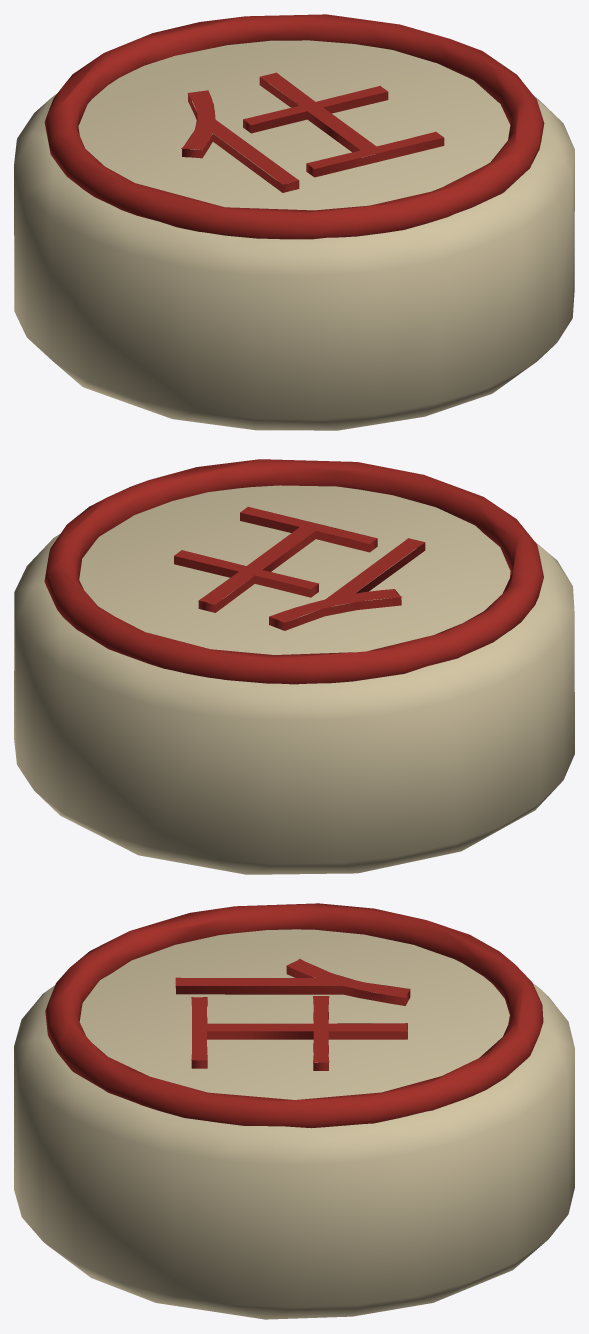
Rendered from quan_do_si.glb.
3 renders of one model, top to bottom at view 1: azimuth 30°, elevation 25°; view 2: azimuth 150°, elevation 25°; view 3: azimuth 270°, elevation 25°, orthographic.
Visible parts, largest first — view 1: quan_do_si; view 2: quan_do_si; view 3: quan_do_si.
Part boxes in pixels (x1,y1,x2,y2): quan_do_si: [14, 14, 574, 430]; quan_do_si: [14, 459, 574, 874]; quan_do_si: [14, 903, 574, 1319].
Bounding box in the file's own units: 0.0367 × 0.0153 × 0.0367.
